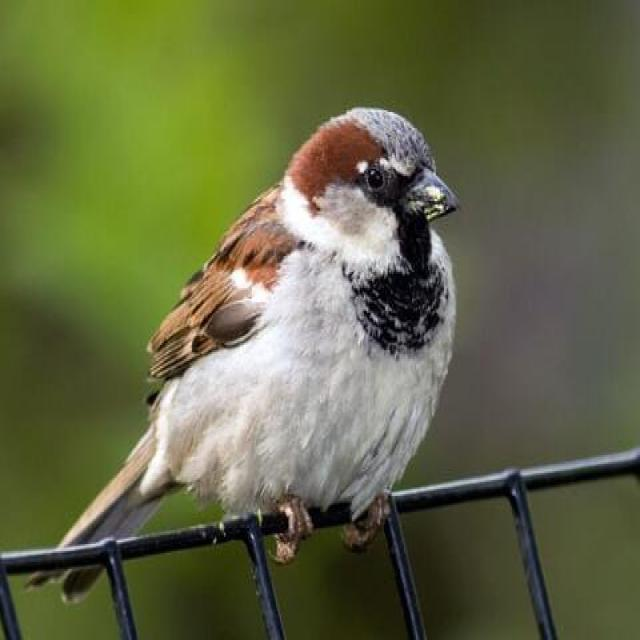Sparrow: (59, 89, 472, 555)
